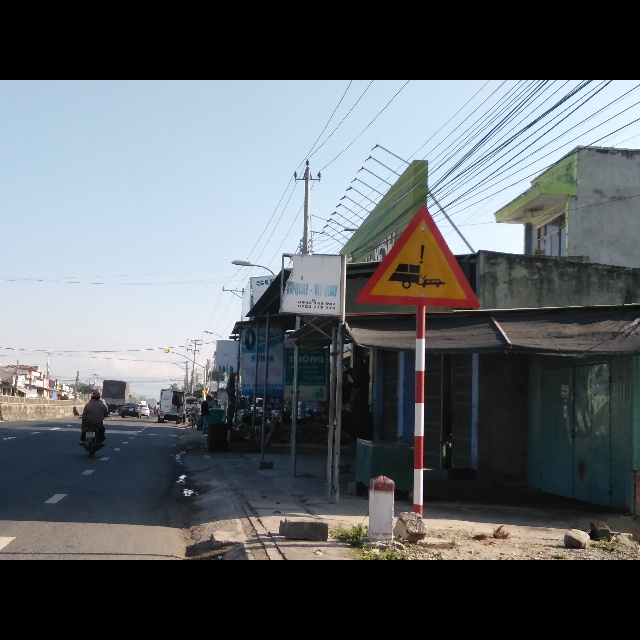Đoạn đường hay xảy ra tai nạn: (355, 203, 481, 309)
